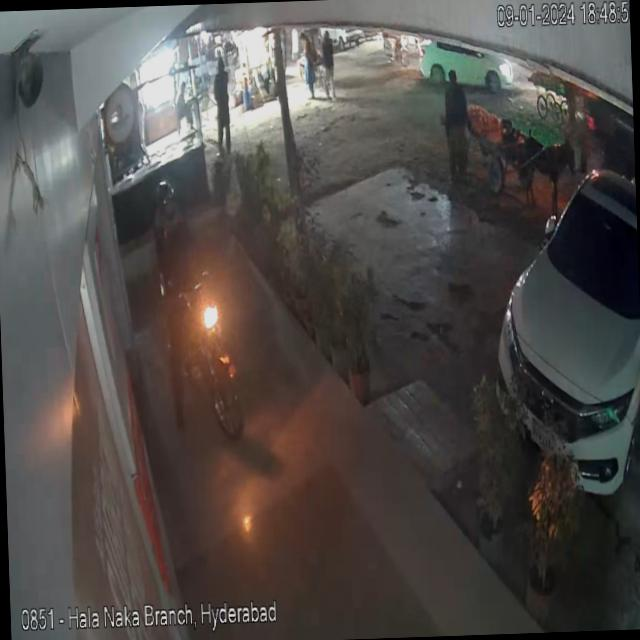Car: (476, 139, 640, 538)
Motorcycle: (152, 261, 252, 459)
